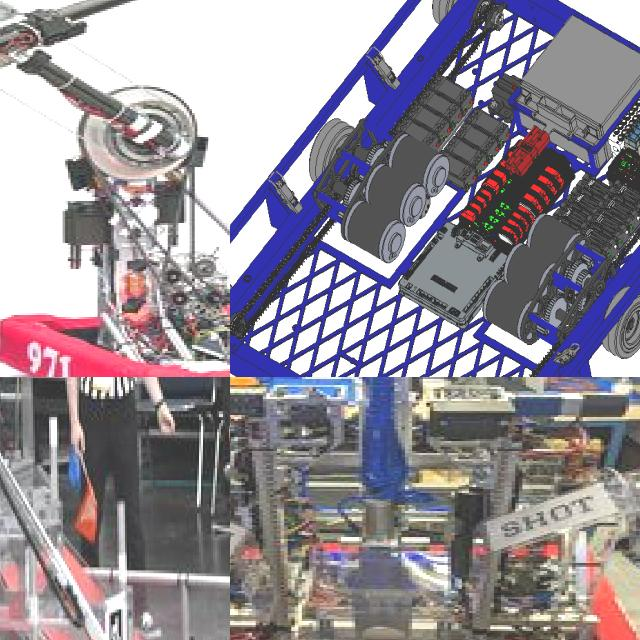FRC-Robots: (230, 0, 640, 377), (230, 377, 640, 640), (0, 0, 230, 377), (0, 392, 230, 640)
